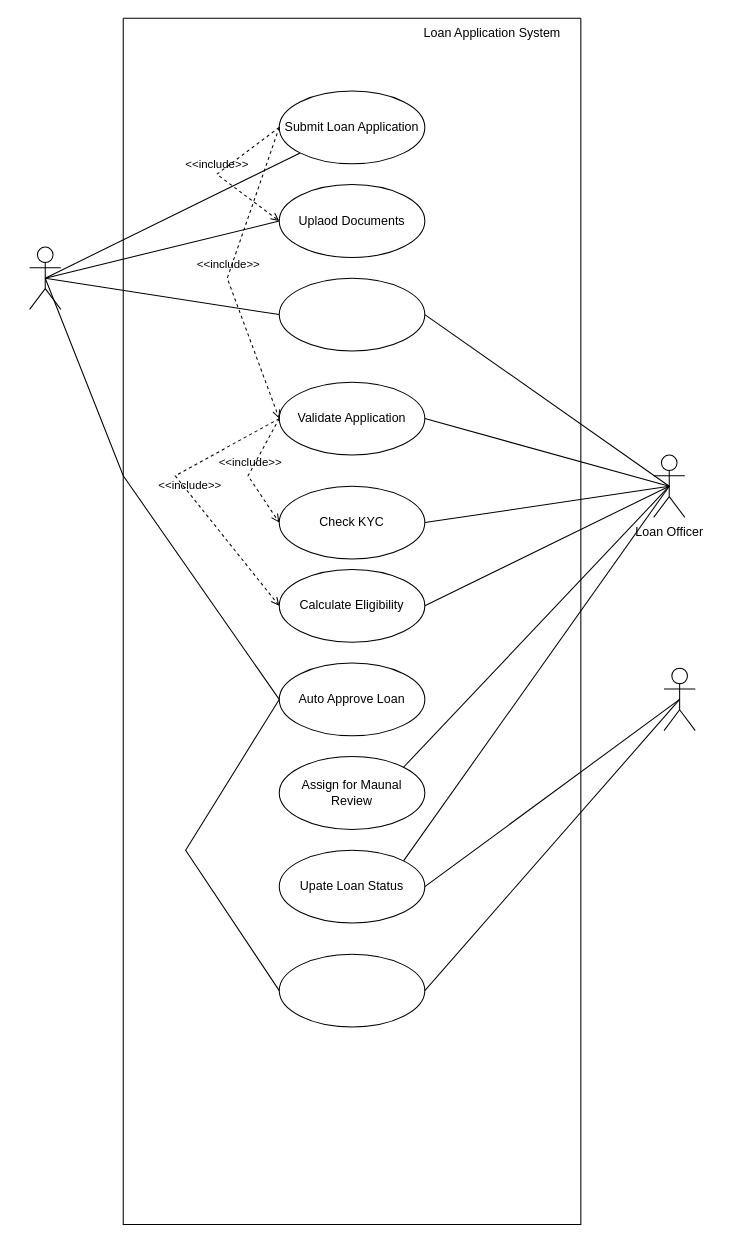
Some shapes in this 751 by 1243 pixel diagram are drawn without their labels. The shapes that lost their labels are listed below. From the top down, each one's centre as x and y in pixels, then its label:
At point 45,277: "Customer".
At point 351,314: "Track Loan Status".
At point 679,699: "Notification System".
At point 351,990: "Send Notification".
